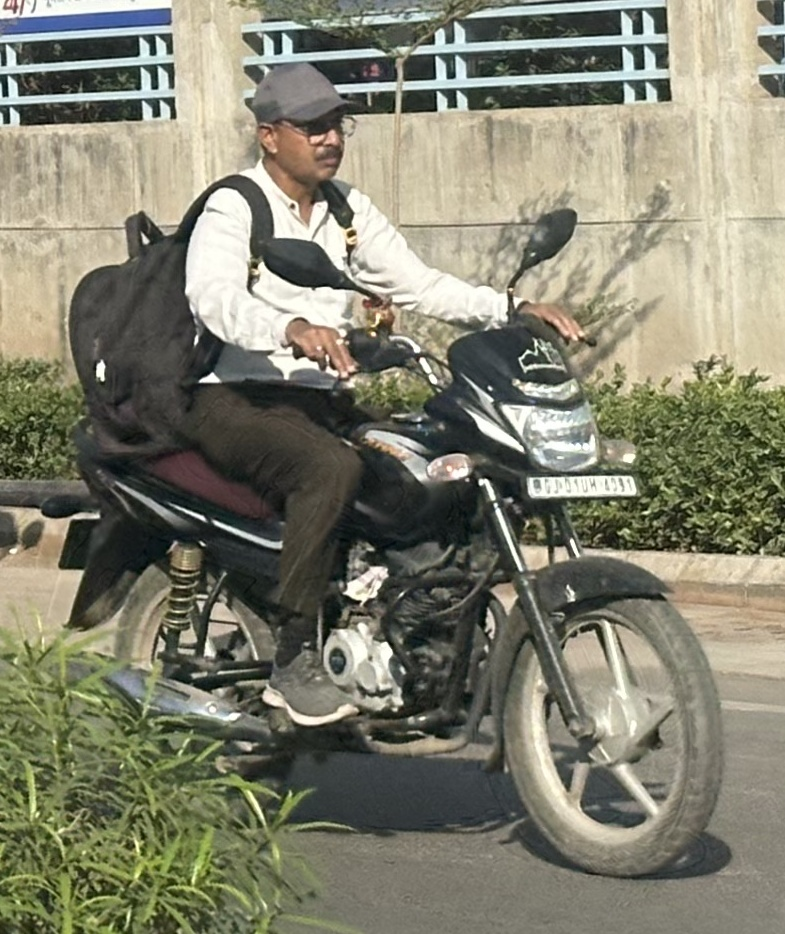BikeWithRider: (36, 54, 748, 883)
NoHelmet: (234, 58, 368, 187)
